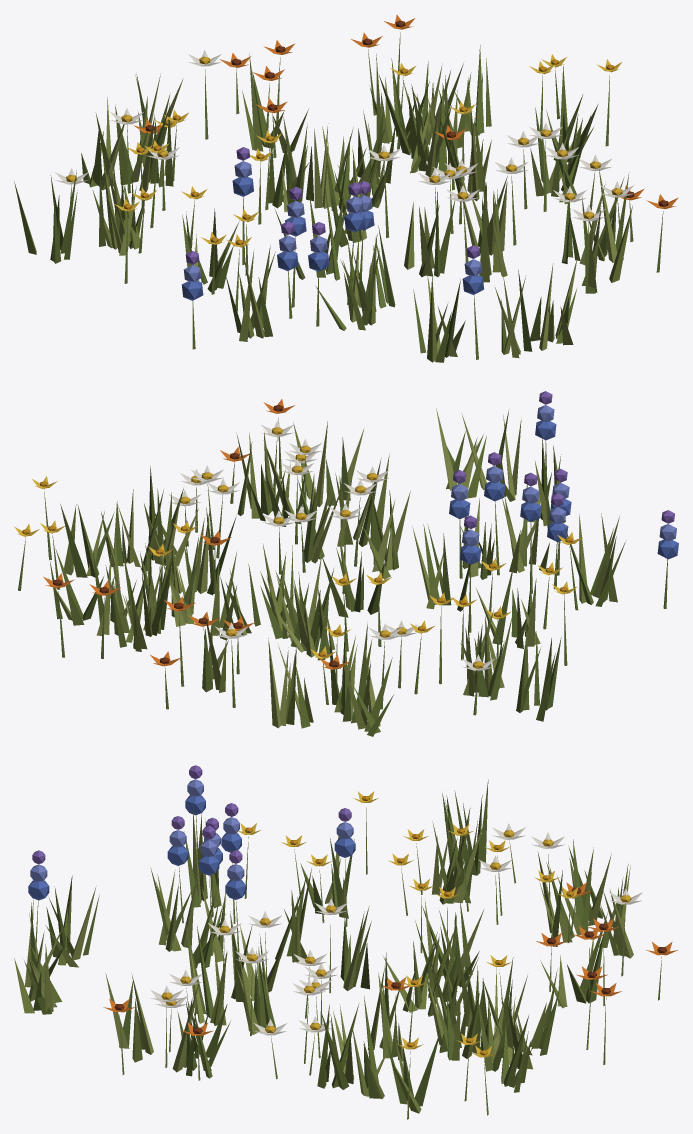
File: mtn_wildflowers.glb
3 views of the same model, one above another, from view 1: azimuth 30°, elevation 25°; view 2: azimuth 150°, elevation 25°; view 3: azimuth 270°, elevation 25° (orthographic).
Parts seen in each view (by area): view 1: mtn_wildflowers; view 2: mtn_wildflowers; view 3: mtn_wildflowers.
Boxes of the visible parts, <box> form: mtn_wildflowers: <box>14,14,678,362</box>; mtn_wildflowers: <box>14,391,678,736</box>; mtn_wildflowers: <box>14,765,677,1119</box>.
Size of the model in its own units: 2.97 by 0.6287 by 3.
